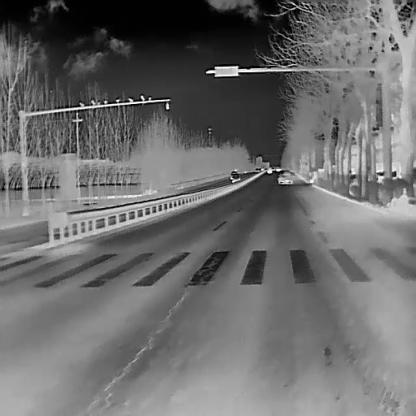car: (276, 169, 294, 184), (230, 173, 241, 184), (229, 170, 237, 180), (266, 166, 272, 173), (256, 166, 260, 172), (254, 166, 258, 172)
